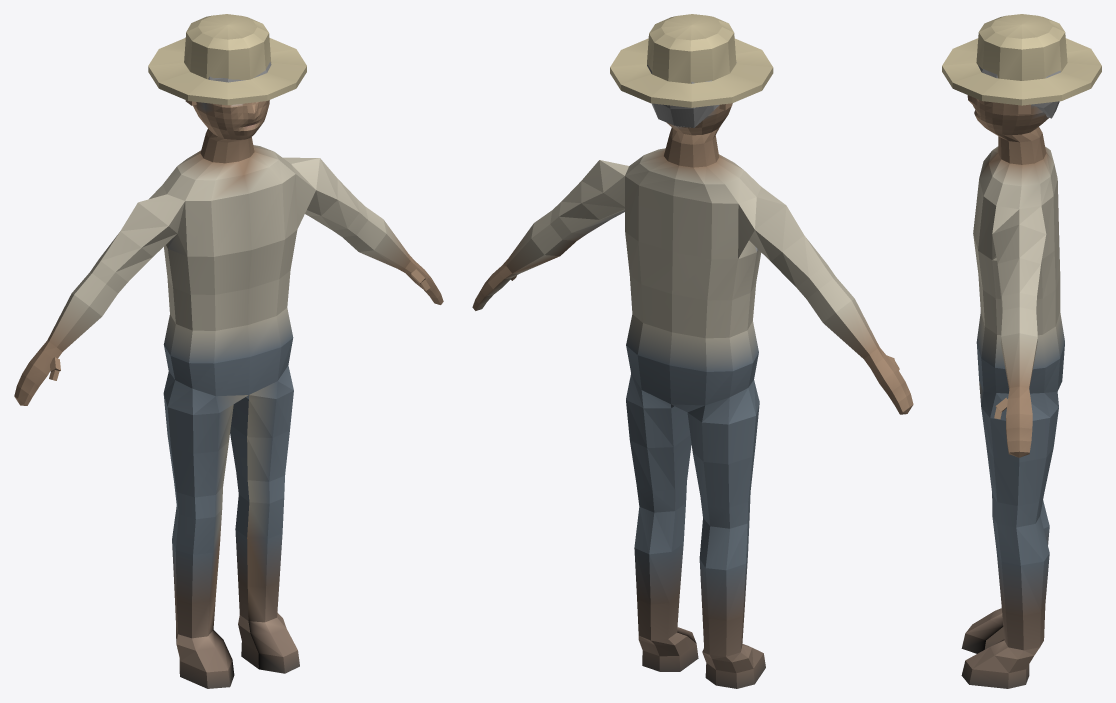
The model's file is char__pessoa__bento.glb.
The picture shows the model from 3 angles, left to right: view 1: azimuth 30°, elevation 25°; view 2: azimuth 150°, elevation 25°; view 3: azimuth 270°, elevation 25°; orthographic projection. The views are drawn at different scales.
Parts seen in each view (by area): view 1: char__pessoa__bento; view 2: char__pessoa__bento; view 3: char__pessoa__bento.
Part boxes in pixels (bbox=[...]): char__pessoa__bento: bbox=[14, 14, 443, 688]; char__pessoa__bento: bbox=[472, 14, 913, 688]; char__pessoa__bento: bbox=[942, 14, 1101, 688].
Size of the model in its own units: 1.23 by 1.77 by 0.4011.
